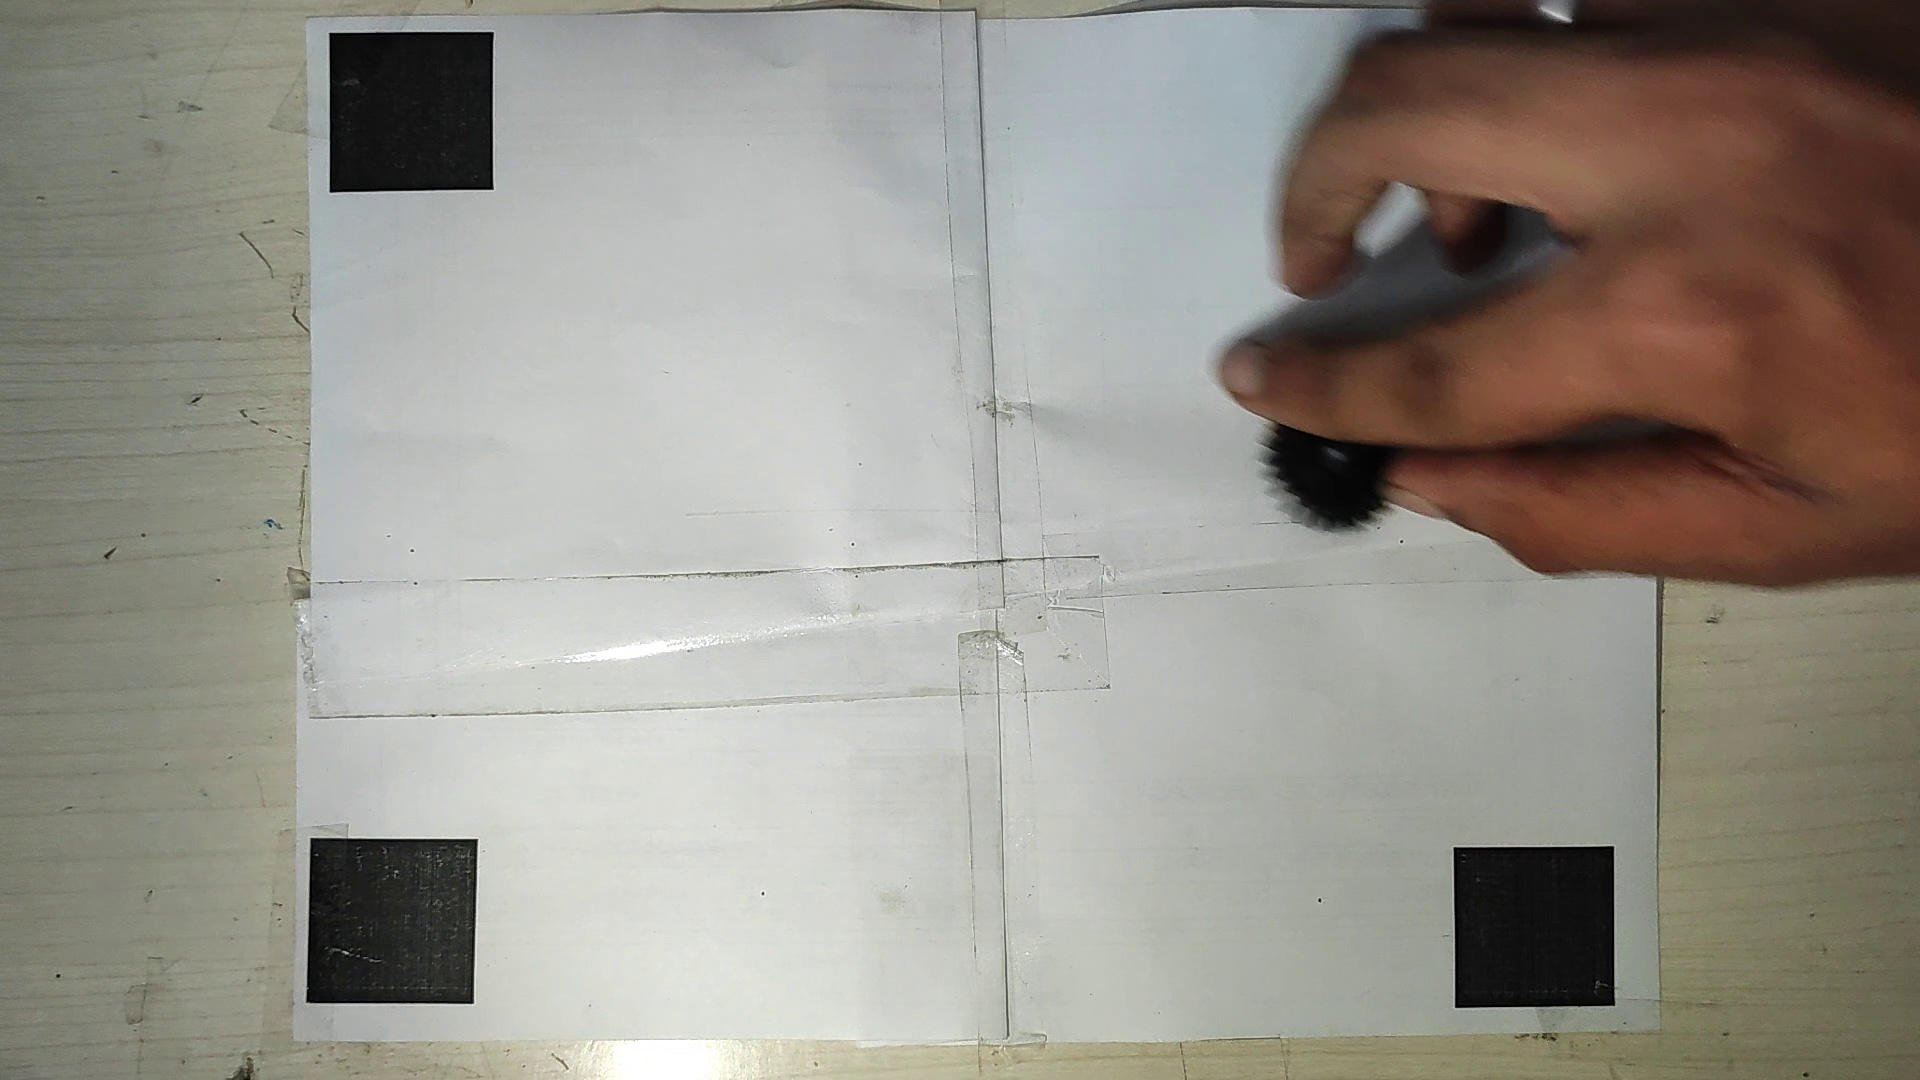Gear: (1266, 396, 1396, 534)
